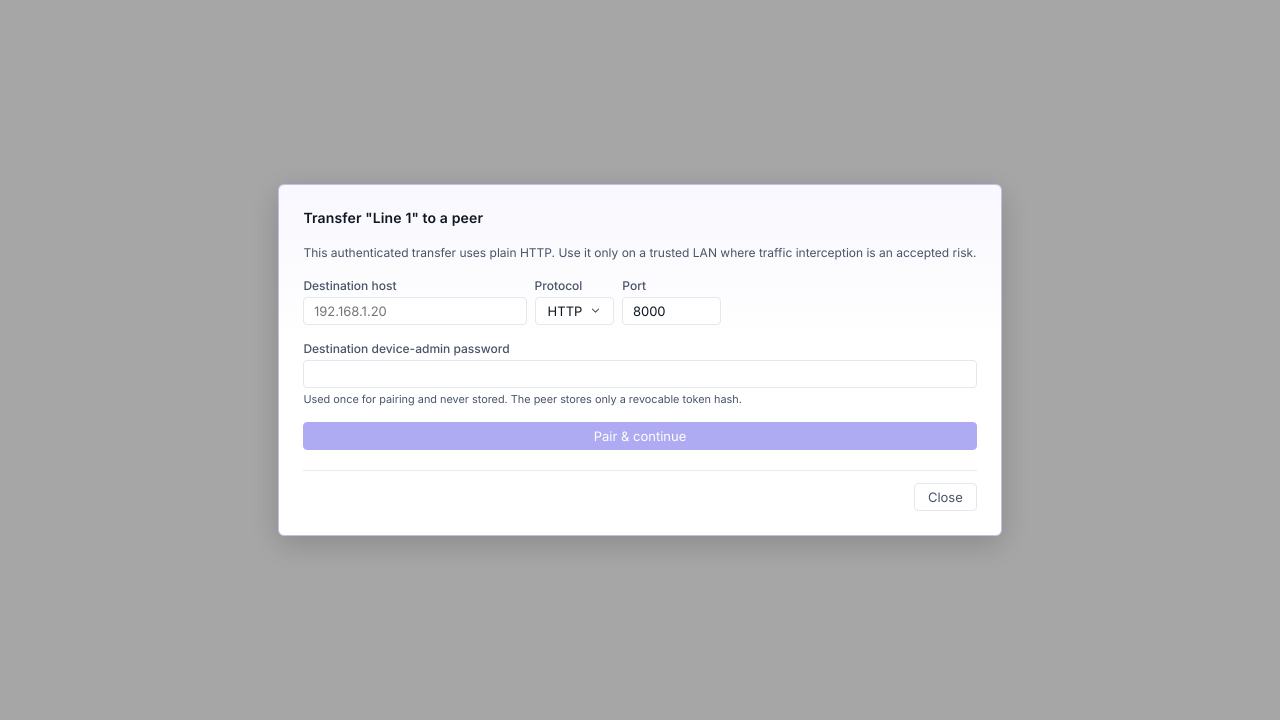
Test: clears the mismatch panel and button once the pinned certificate is forgotten
This screenshot has width=1280, height=720.
Step 1. Type "10.0.0.4" into the field with placeholder "192.168.1.20" → (415, 311), box [303,297,527,325]
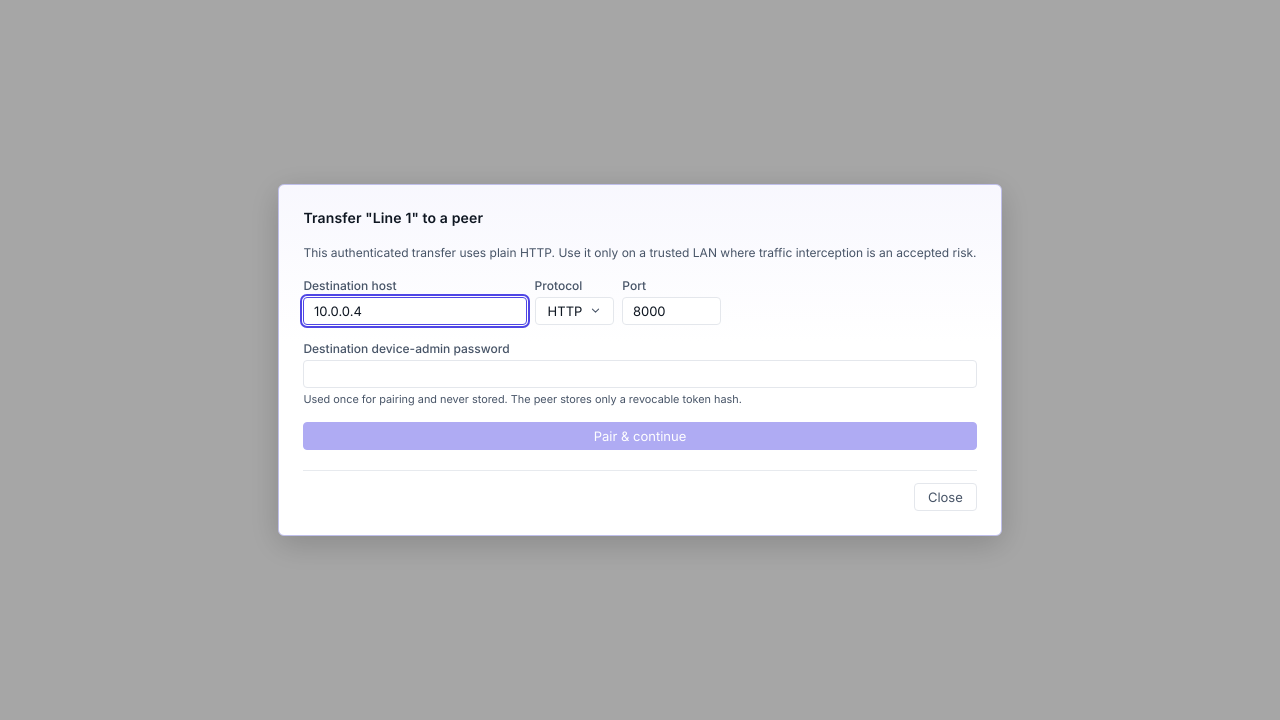
Step 2. Type "secret" into the password field labelled "device-admin password" → (640, 374), box [303,360,977,388]
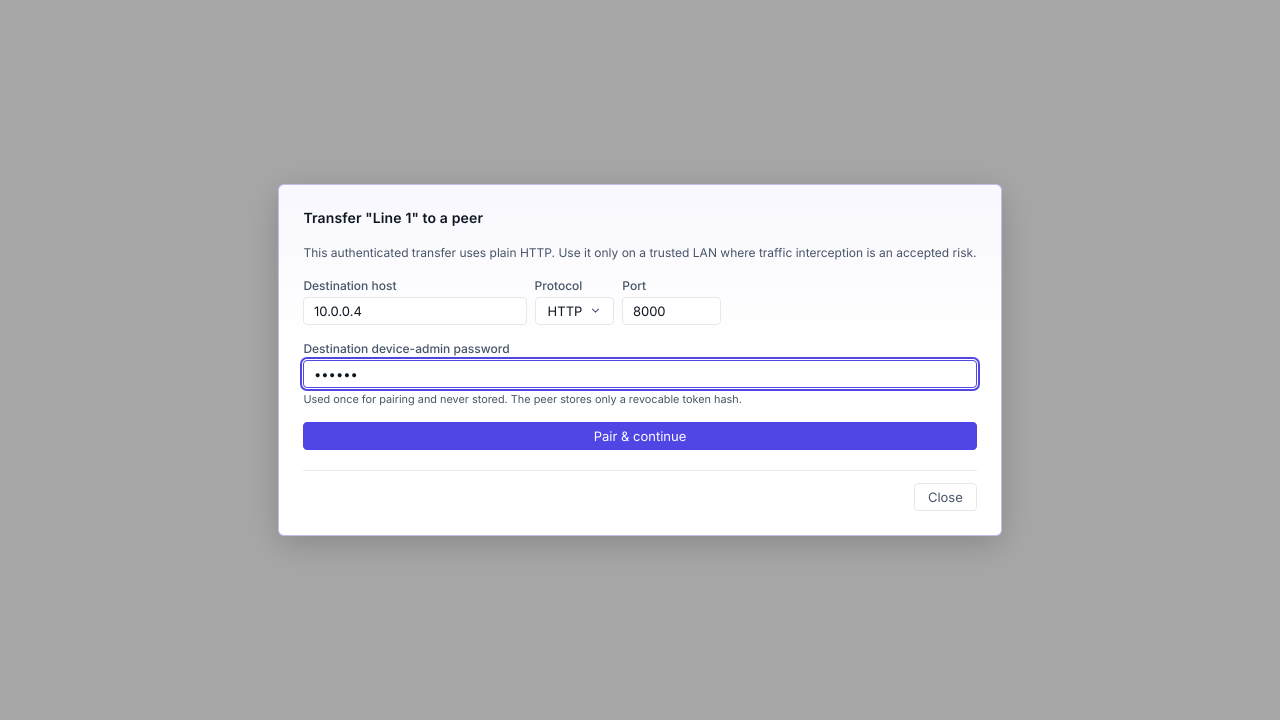
Step 3. Click the button "Pair & continue" → (640, 436), box [303,422,977,450]
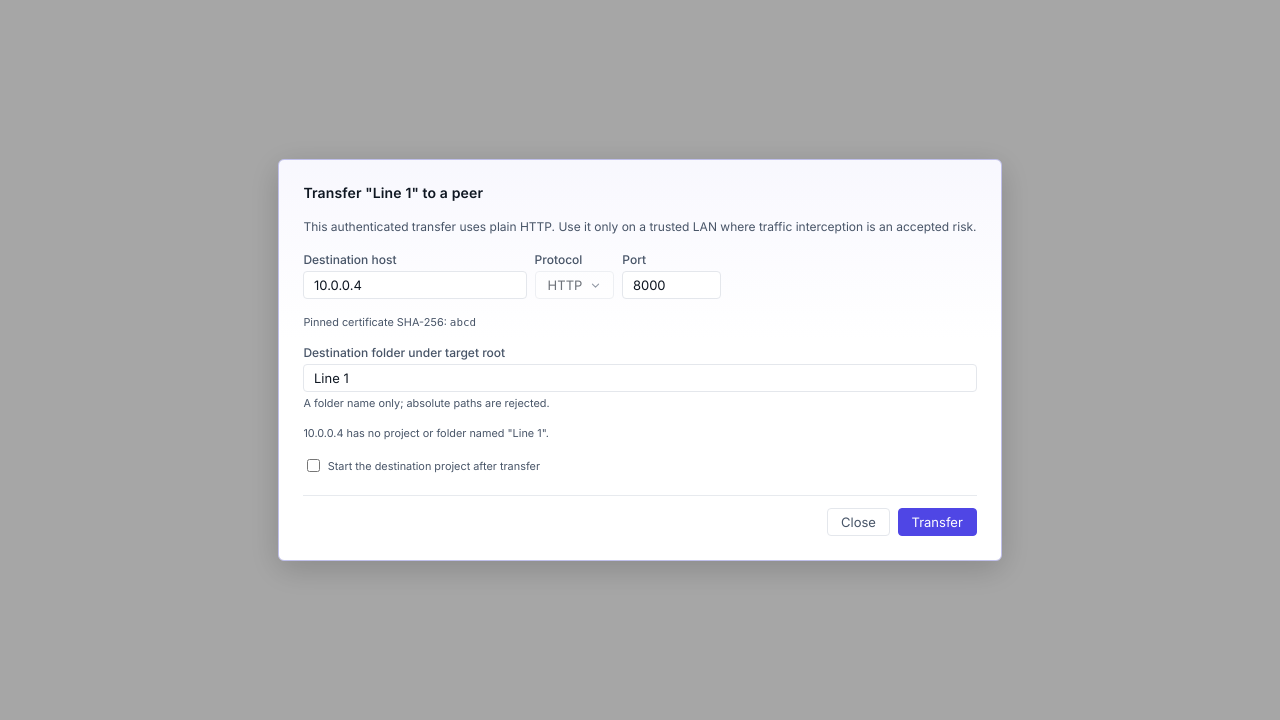
Step 4. Type "landing" into the field labelled "Destination folder" → (640, 378), box [303,364,977,392]
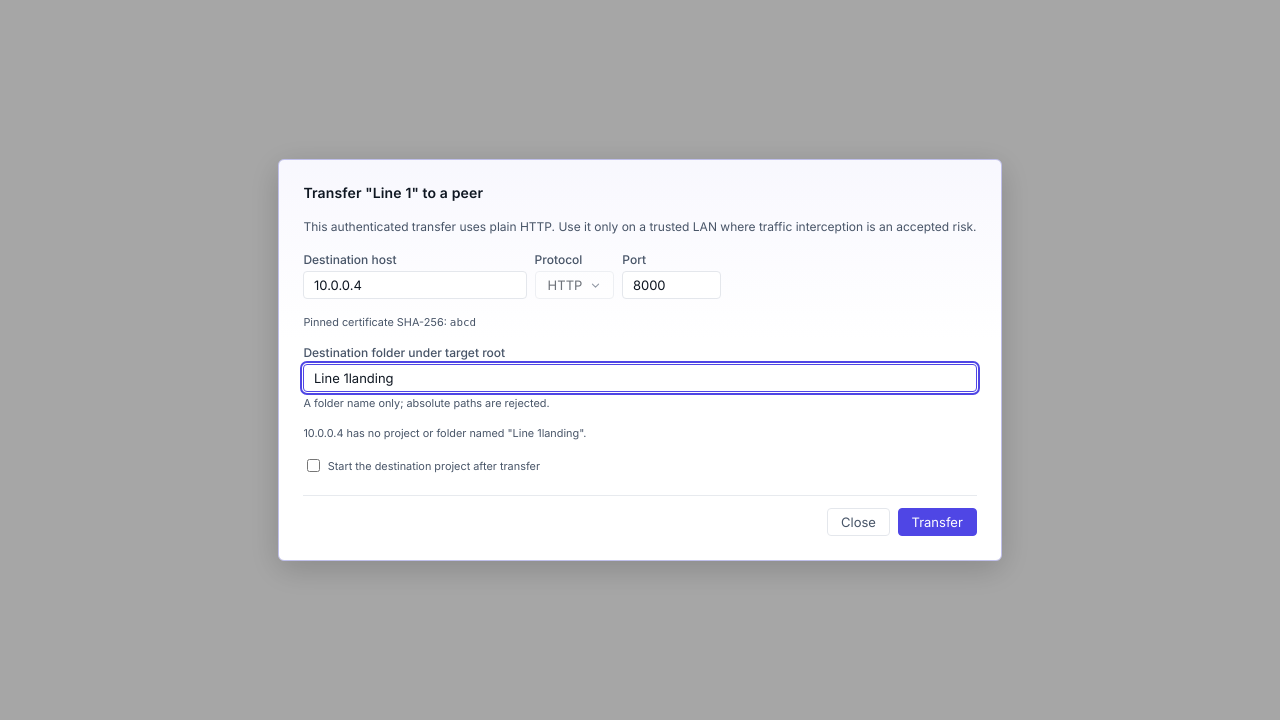
Step 5. Click the button "Transfer" → (937, 522), box [898,508,977,536]
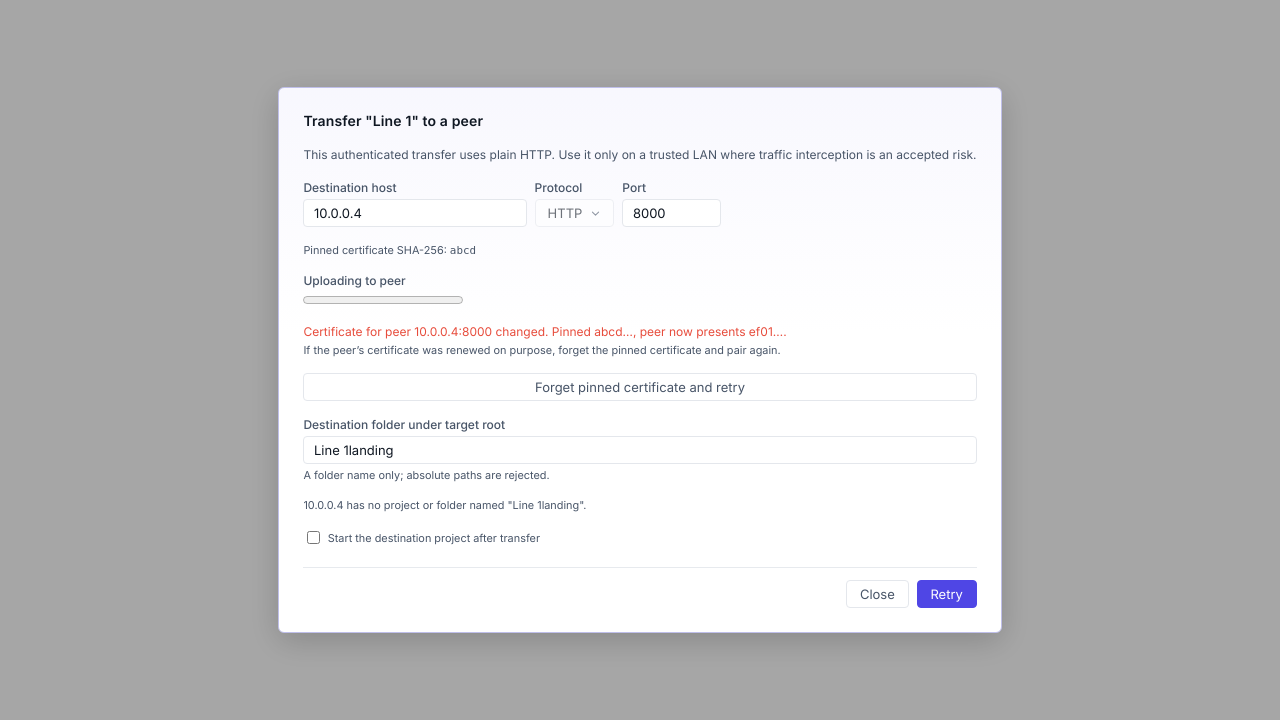
Result: the text "Certificate for peer 10.0.0.4:8000 changed" is shown at [303,324,787,339]
Step 6. Click the button "Forget pinned certificate and retry" → (640, 387), box [303,373,977,401]
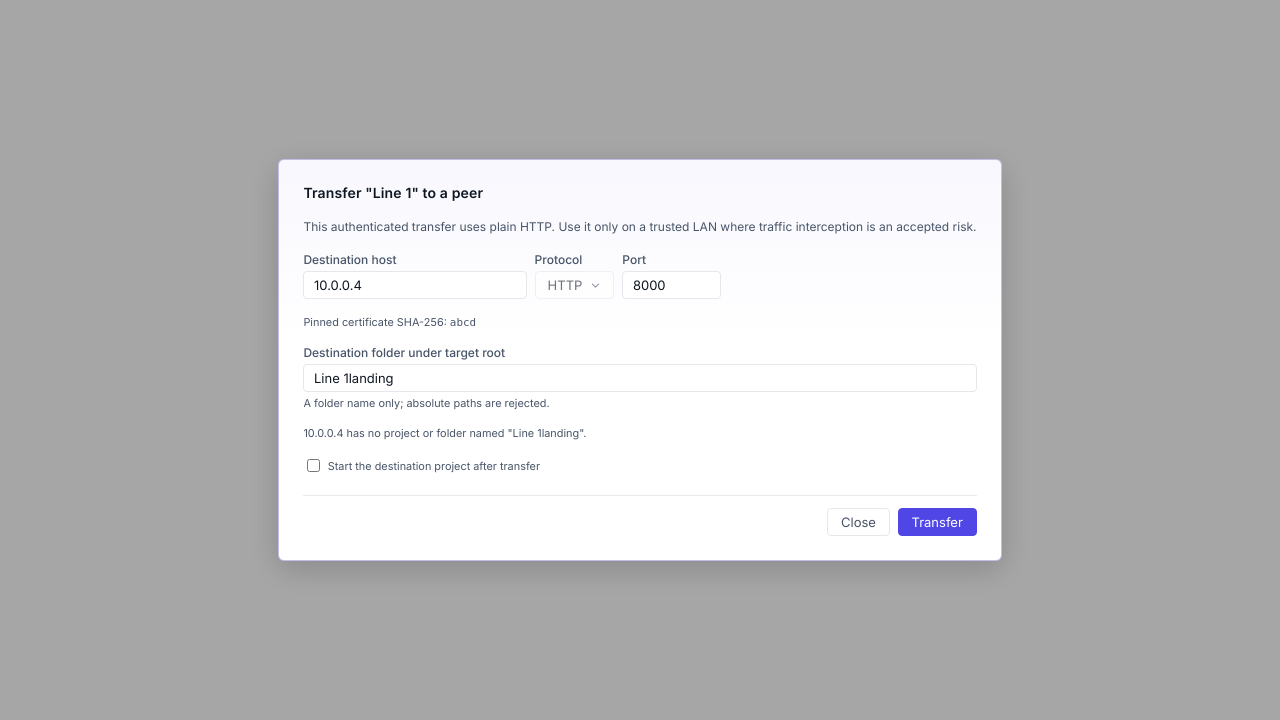
Result: the text "Certificate for peer 10.0.0.4:8000 changed" is gone
Result: the button "Forget pinned certificate and retry" is gone
